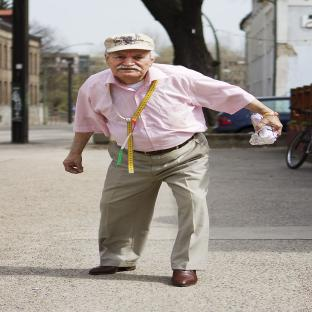Human: (63, 33, 282, 286)
